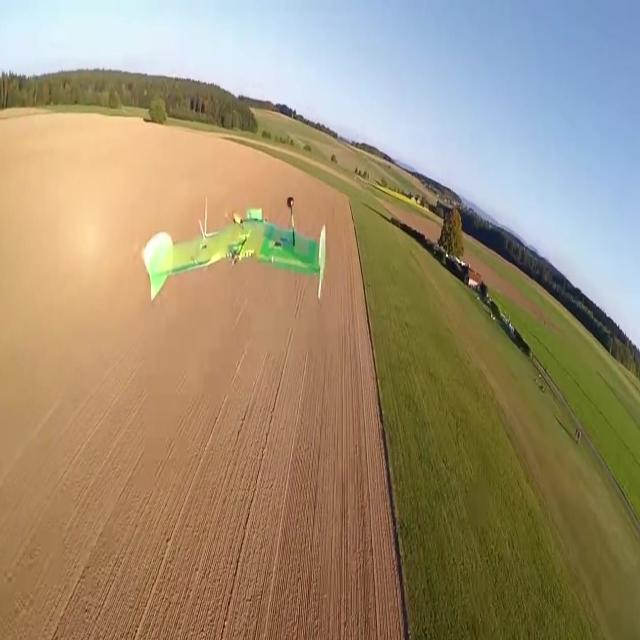iha: (141, 225, 327, 274)
